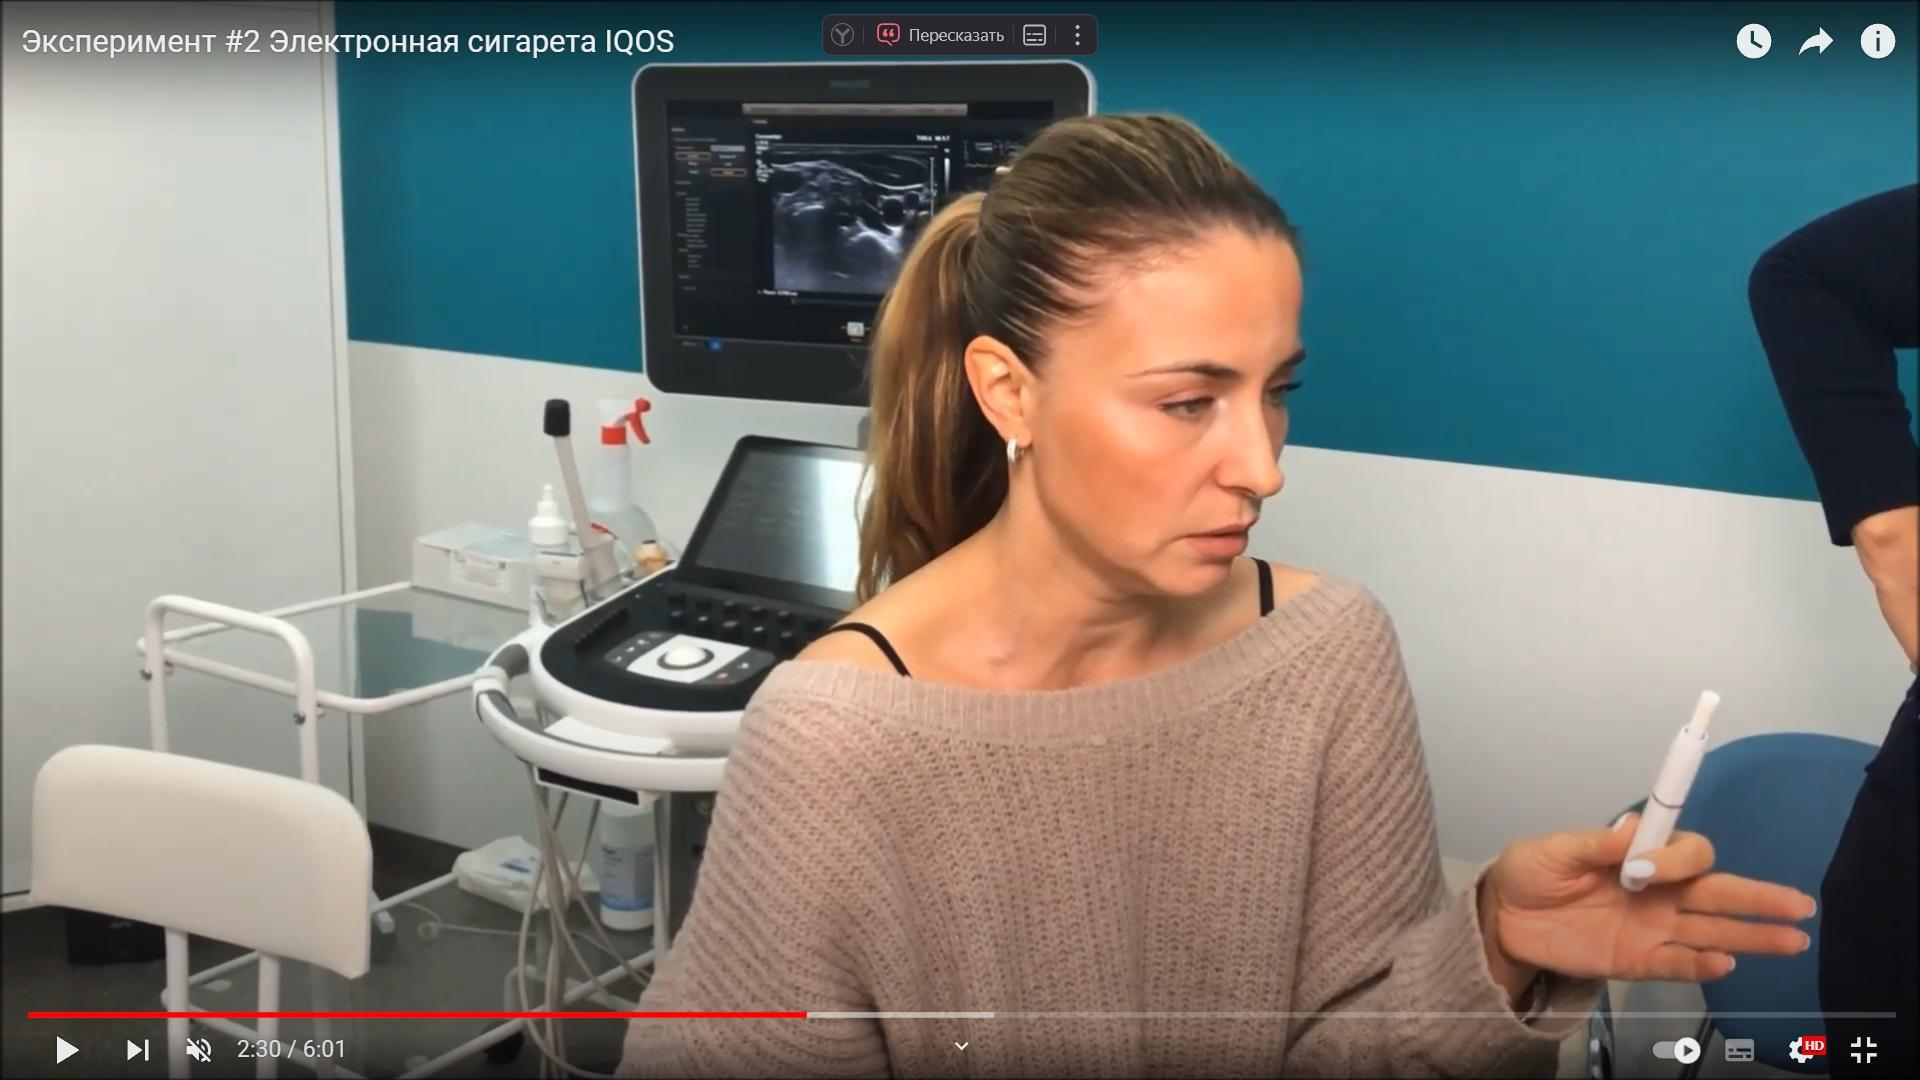iqos: (1619, 690, 1721, 894)
